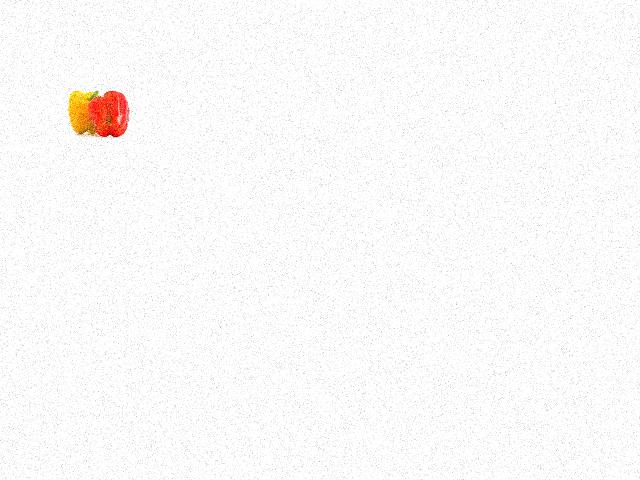bell_pepper: (67, 92, 104, 137)
